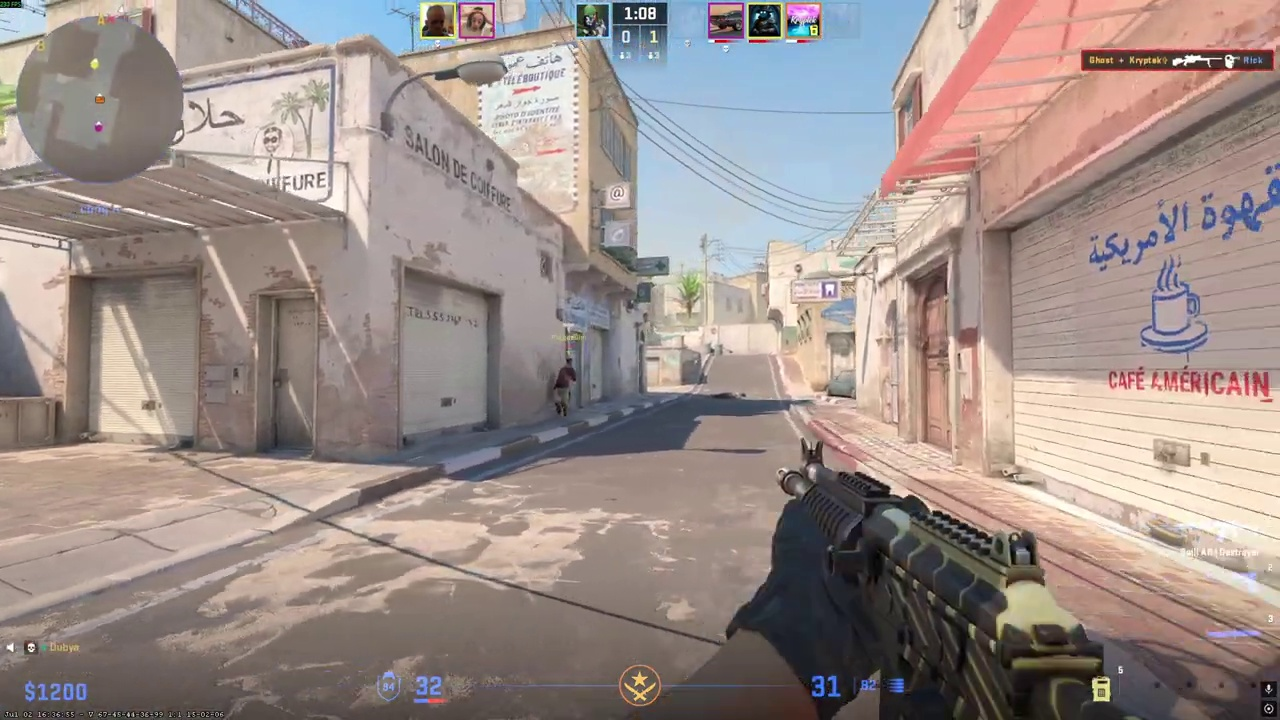Terrorist: (553, 358, 576, 416)
